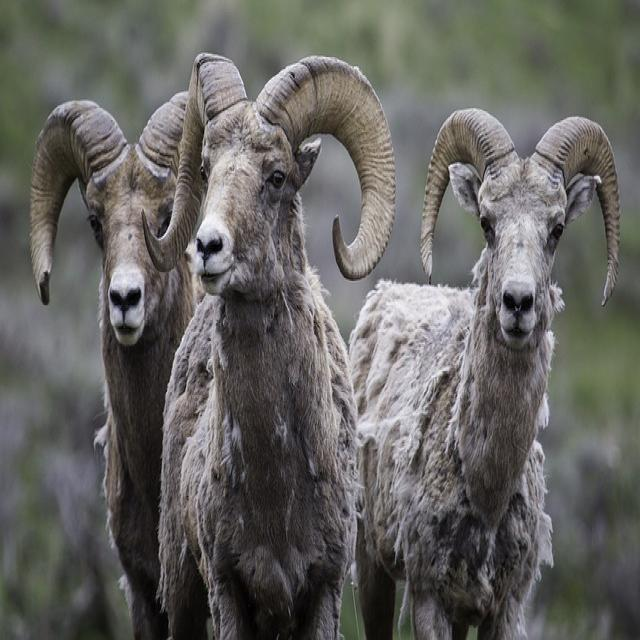goat: (144, 54, 395, 638), (350, 109, 619, 638), (30, 94, 199, 638)
